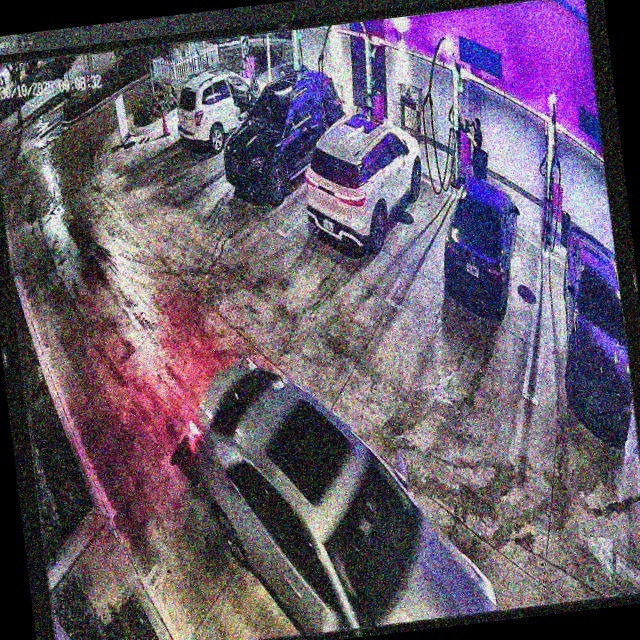Car: (178, 332, 498, 640), (298, 105, 434, 263), (215, 68, 354, 204), (434, 173, 533, 322), (170, 60, 273, 150)
